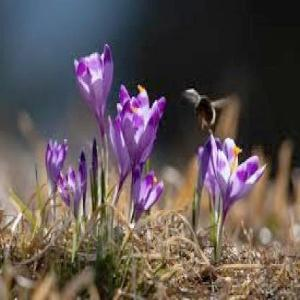Saffron: (213, 137, 264, 214), (72, 45, 114, 128), (126, 102, 158, 177), (109, 115, 147, 178), (44, 136, 66, 193)
